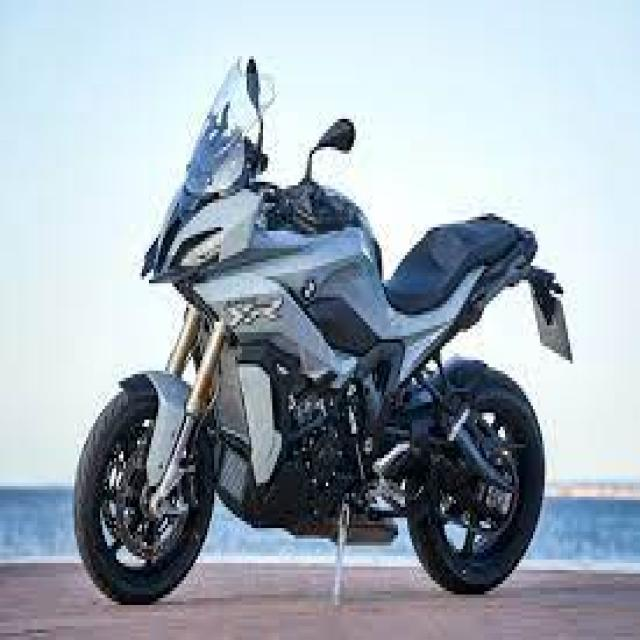MOTORCYCLE: (74, 147, 564, 610)
